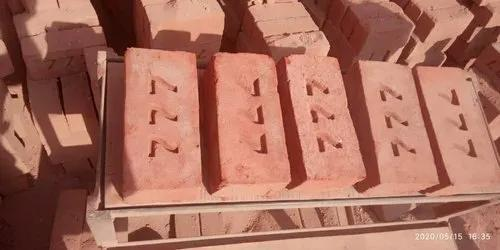brick: (126, 49, 199, 193), (417, 65, 500, 188), (359, 57, 438, 184), (285, 56, 365, 180), (215, 54, 289, 183)
